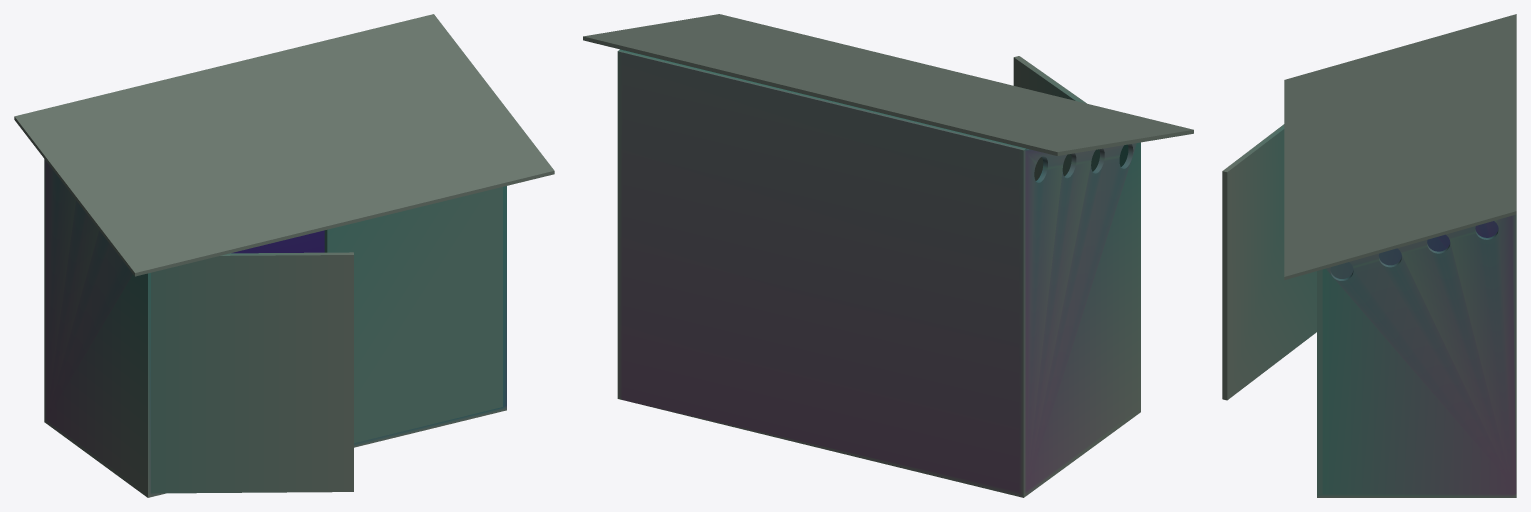
3 renders of one model, left to right at view 1: azimuth 30°, elevation 25°; view 2: azimuth 150°, elevation 25°; view 3: azimuth 270°, elevation 25°, orthographic. The views are drawn at different scales.
Visible parts, largest first — view 1: roof, open_leaf, shut_leaf, floor; view 2: floor, roof, open_leaf; view 3: floor, roof, open_leaf, shut_leaf.
Boxes of the visible parts, x1=… form: roof: x1=14, y1=14, x2=554, y2=276; open_leaf: x1=151, y1=252, x2=353, y2=493; shut_leaf: x1=324, y1=187, x2=502, y2=443; floor: x1=44, y1=159, x2=506, y2=497; floor: x1=617, y1=49, x2=1140, y2=497; roof: x1=583, y1=14, x2=1193, y2=155; open_leaf: x1=1013, y1=56, x2=1128, y2=180; floor: x1=1317, y1=214, x2=1516, y2=497; roof: x1=1284, y1=14, x2=1516, y2=280; open_leaf: x1=1222, y1=124, x2=1316, y2=400; shut_leaf: x1=1317, y1=269, x2=1322, y2=494.
Bounding box in the file's own units: 0.5 × 0.3565 × 0.3155.
